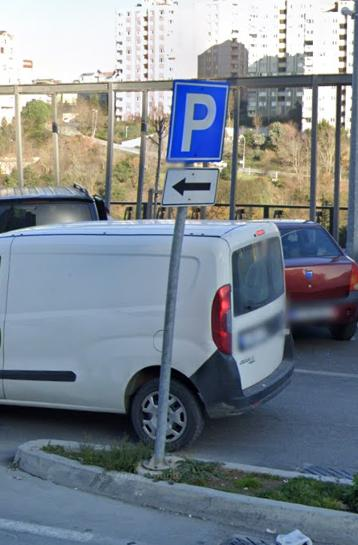park: (173, 81, 224, 160)
